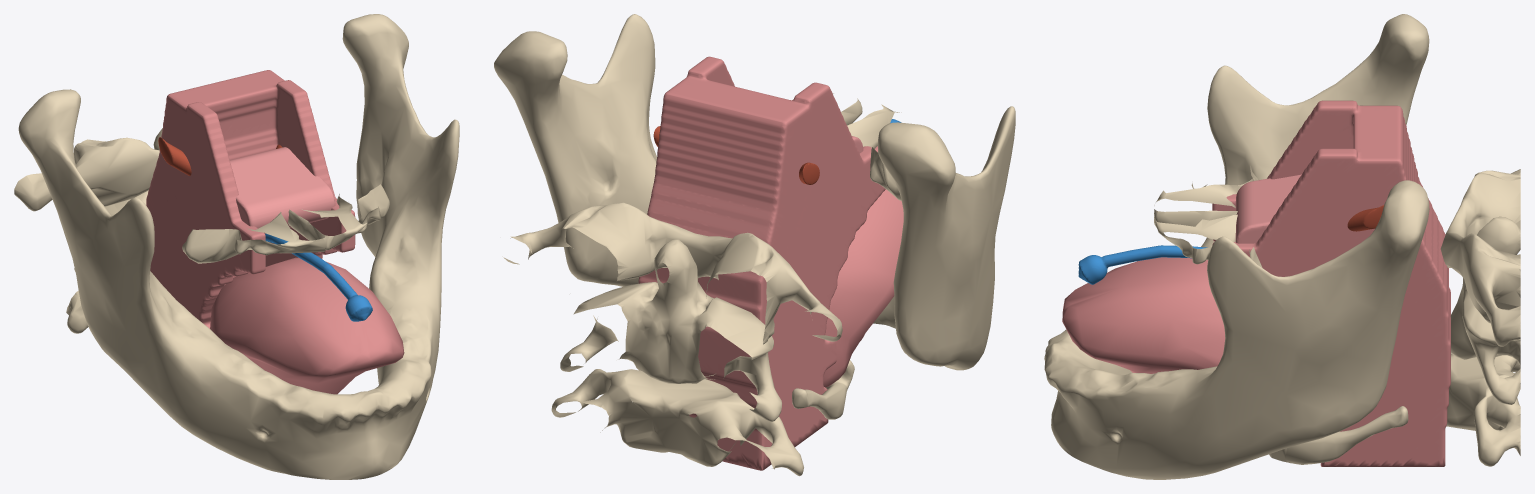
The model's file is speech-whole.glb.
3 views of the same model, side by side, from view 1: azimuth 30°, elevation 25°; view 2: azimuth 150°, elevation 25°; view 3: azimuth 270°, elevation 25° (orthographic). The views are drawn at different scales.
Visible parts, largest first — view 1: bone (×5), mucosa, tongue, soft, air, muscle; view 2: bone (×6), mucosa, tongue; view 3: bone (×7), mucosa, tongue, soft, air, muscle.
Boxes of the visible parts, x1,y1,x2,y2 form: bone (×5): (14, 14, 459, 479); mucosa: (146, 70, 355, 328); tongue: (210, 257, 404, 394); soft: (230, 147, 335, 233); air: (265, 233, 372, 321); muscle: (158, 137, 282, 175); bone (×6): (494, 14, 1015, 476); mucosa: (638, 56, 885, 470); tongue: (823, 189, 903, 387); bone (×7): (1044, 14, 1520, 479); mucosa: (1212, 100, 1450, 466); tongue: (1062, 257, 1225, 373); soft: (1235, 174, 1301, 243); air: (1078, 245, 1207, 284); muscle: (1347, 205, 1384, 231).
Size of the model in its own units: 106 by 81.1 by 104.
